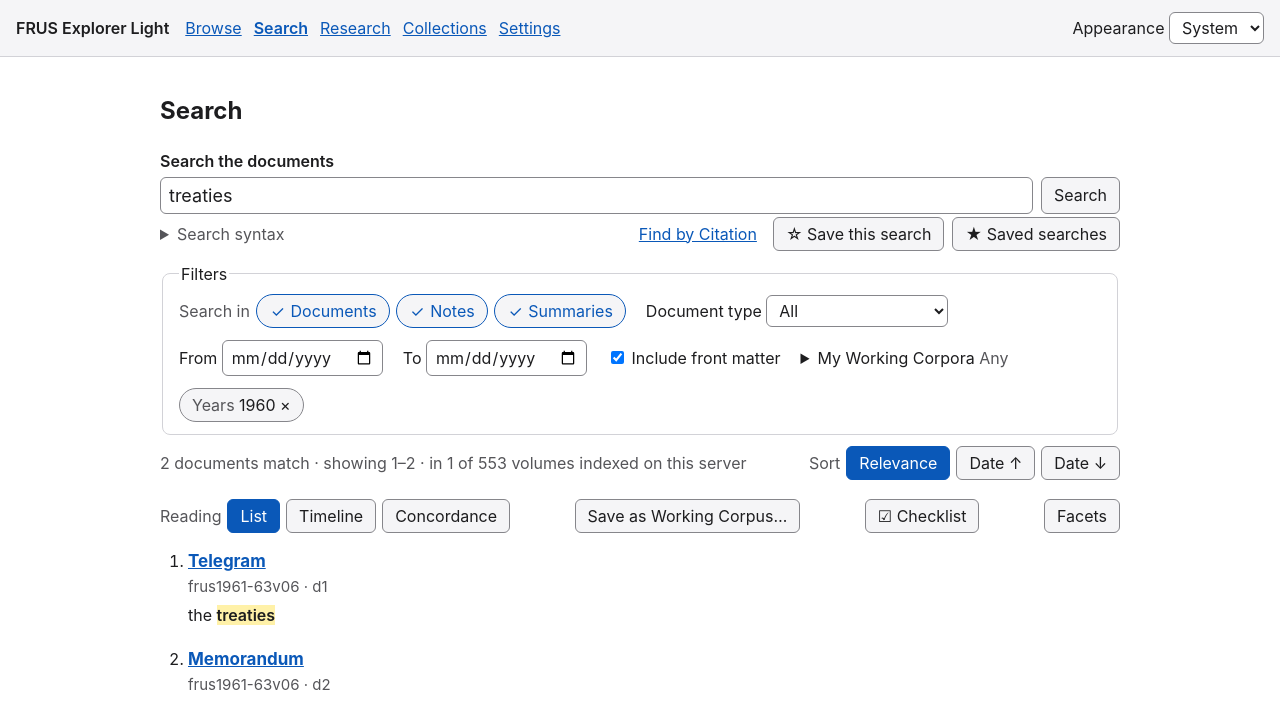
working corpora and volume scopes in Search › captures the rows the search shows in the Save Working Corpus sheet, saying what they are, as the server counts them
Click the button "Save as Working Corpus…" at (688, 516), box [575,499,800,533]
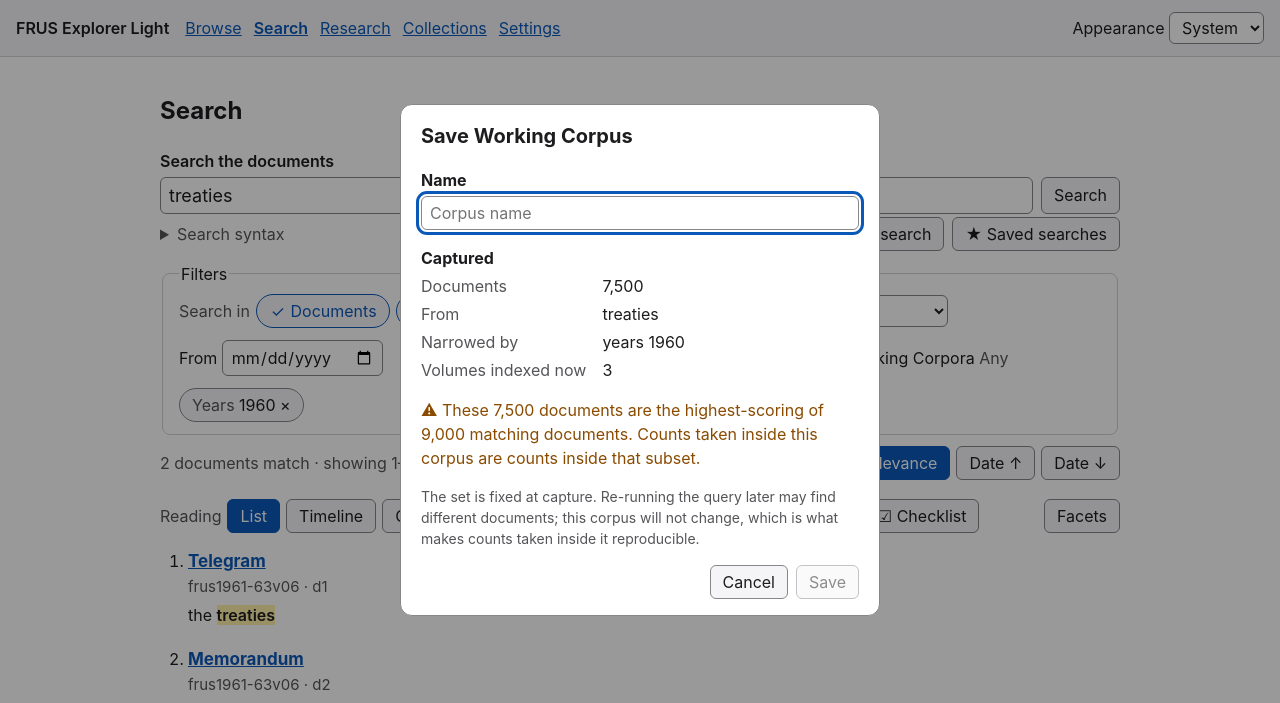
expect the text "7,500" is shown: met, box [602,276,644,296]
expect the text "highest-scoring of 9,000 matching documents" is shown: met, box [421,400,824,468]
expect the button "Save" is disabled: met, box [796,565,859,599]
Type "Talks" into the field labelled "name" at (640, 213), box [421,196,859,230]
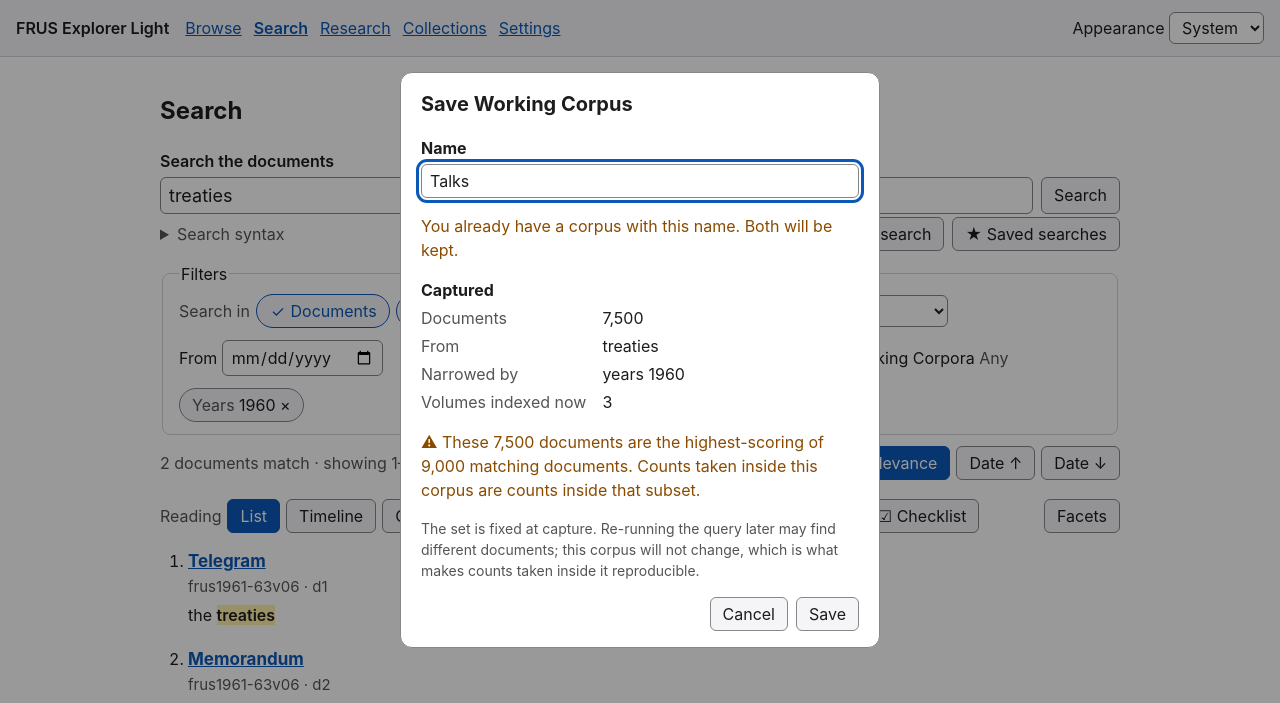
expect the text "You already have a corpus with this name. Both will be kept." is shown: met, box [421,214,859,262]
Type " 1960 " into the field named "name" at (640, 181), box [421,164,859,198]
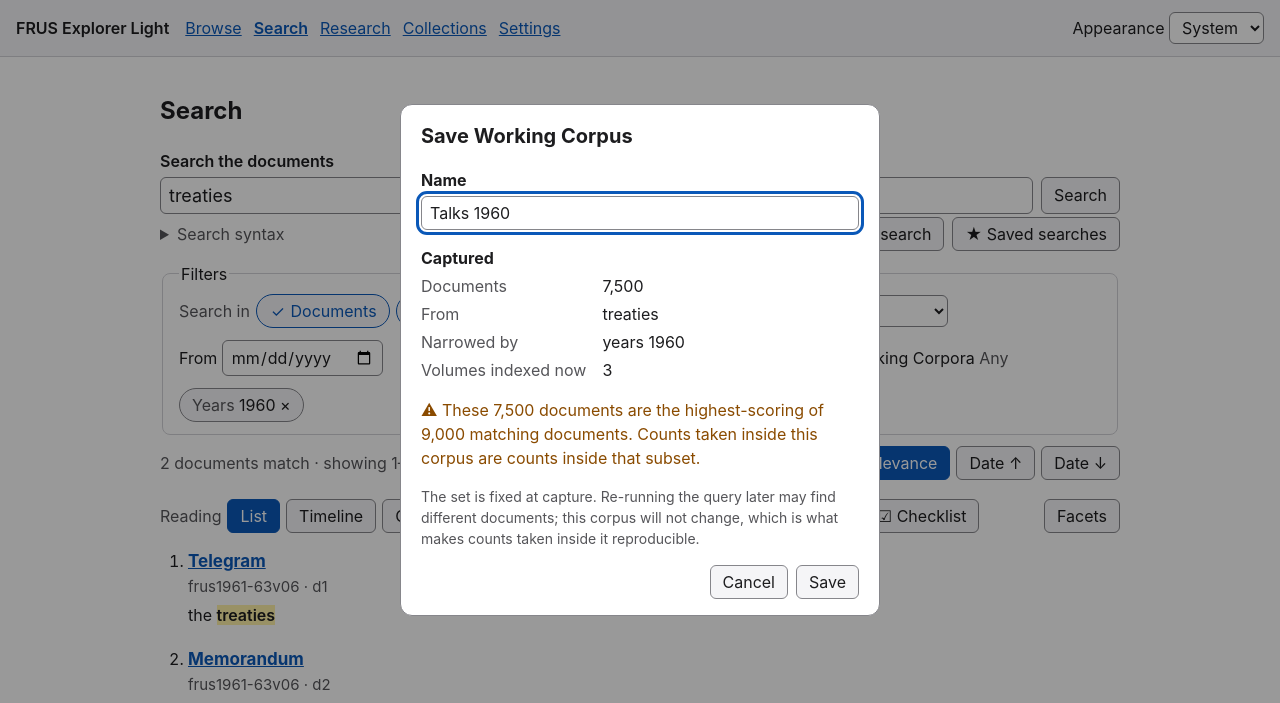
Click the button "Save" at (828, 582), box [796,565,859,599]
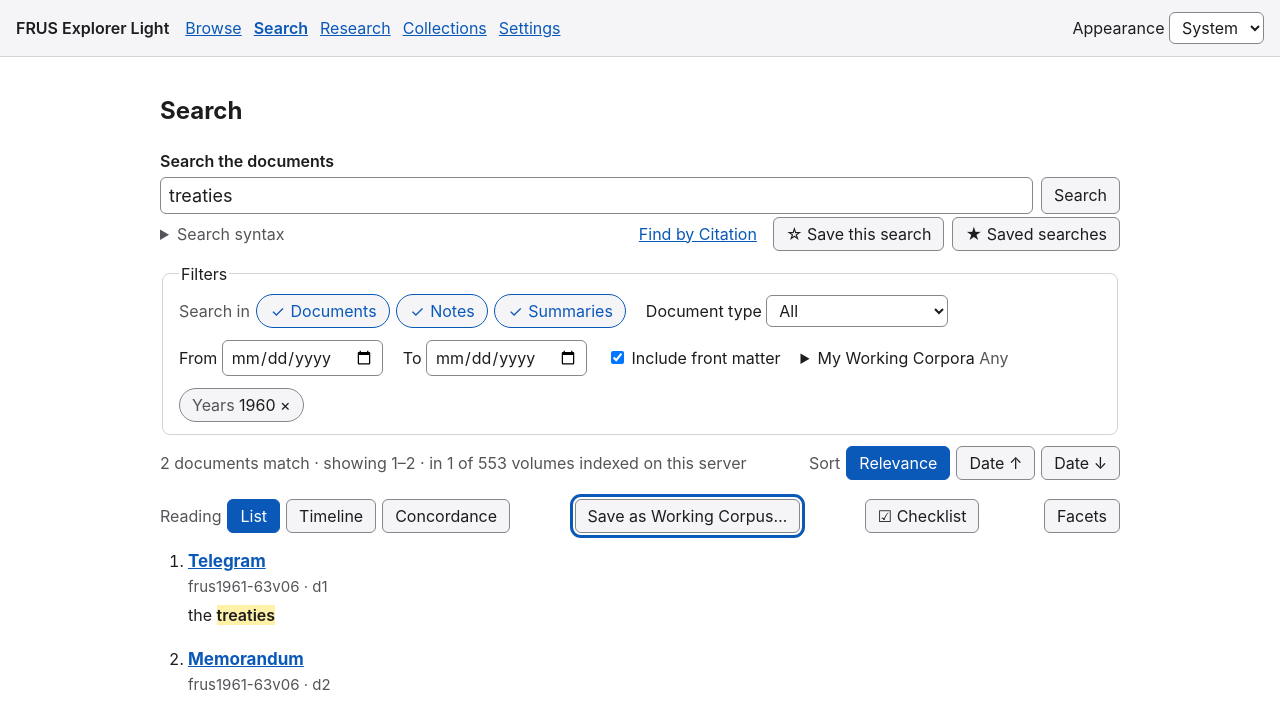
expect the dialog is gone: met
